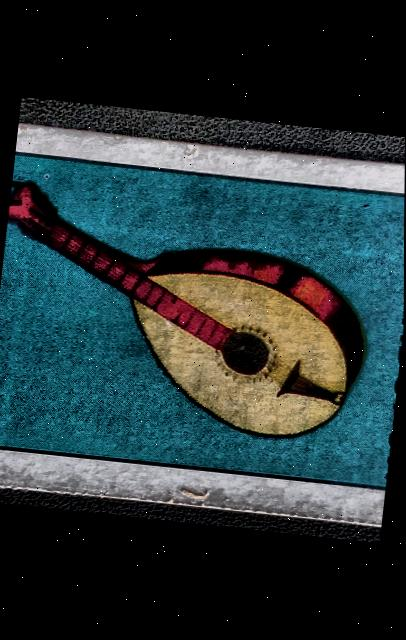El Bandolon: (0, 133, 405, 507)
